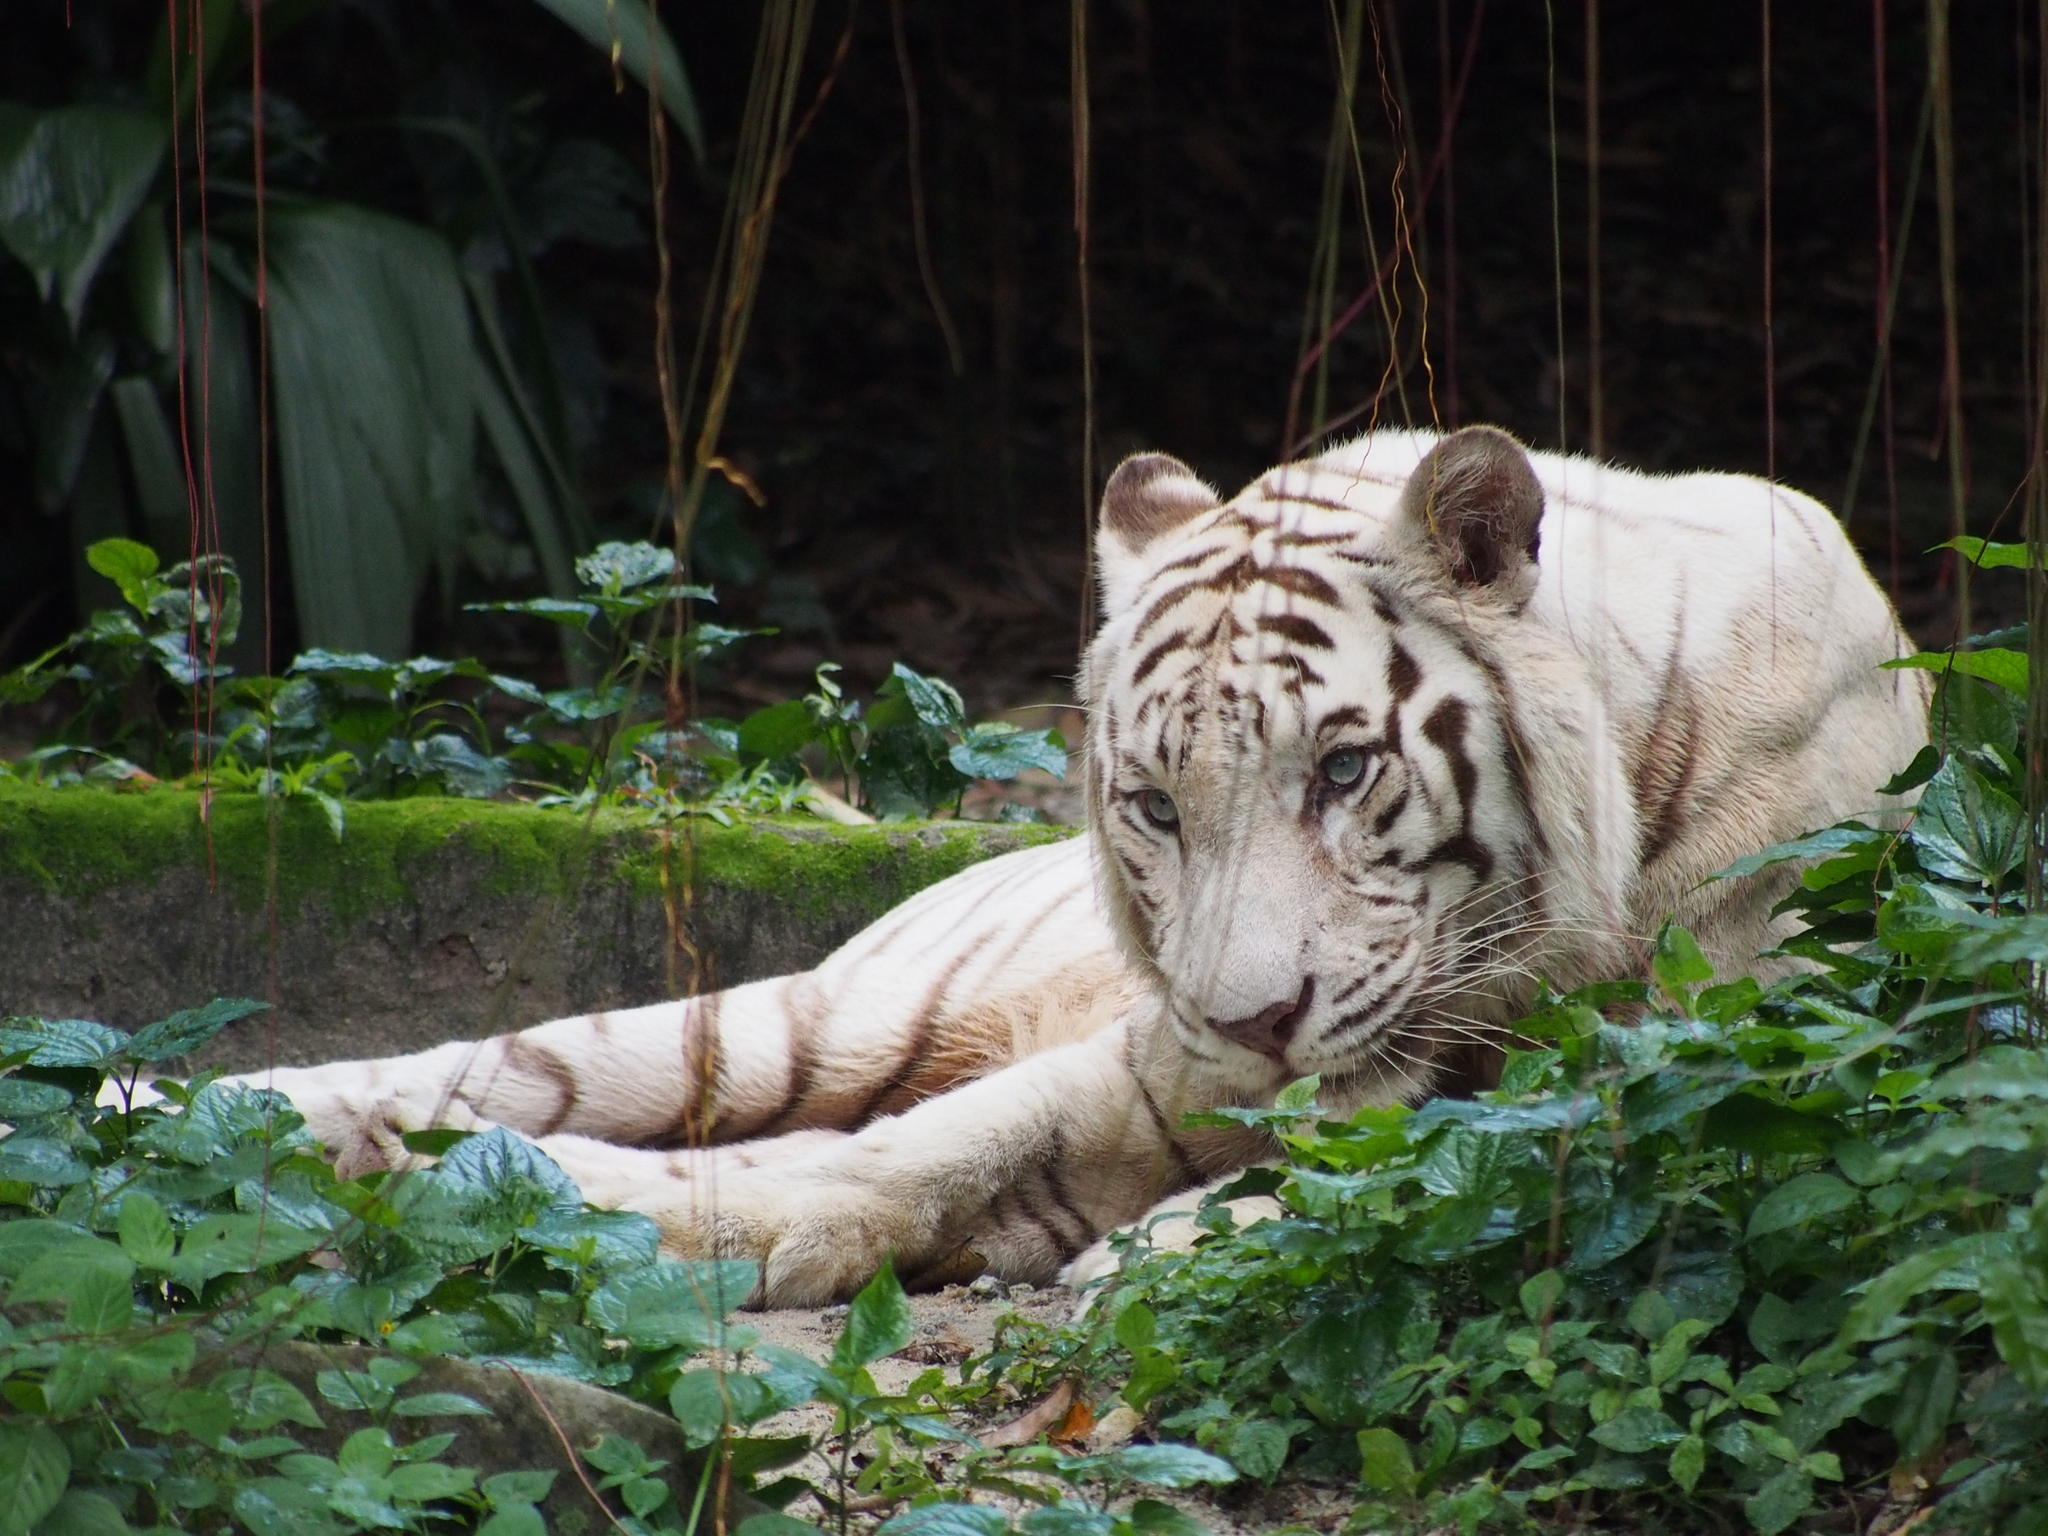tiger: (718, 419, 1983, 1207)
